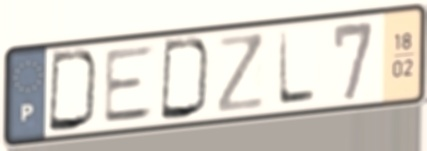7: (330, 18, 378, 103)
D: (158, 36, 215, 123), (46, 48, 103, 135)
E: (100, 41, 158, 127)
L: (275, 28, 319, 108)
Z: (215, 29, 268, 116)
